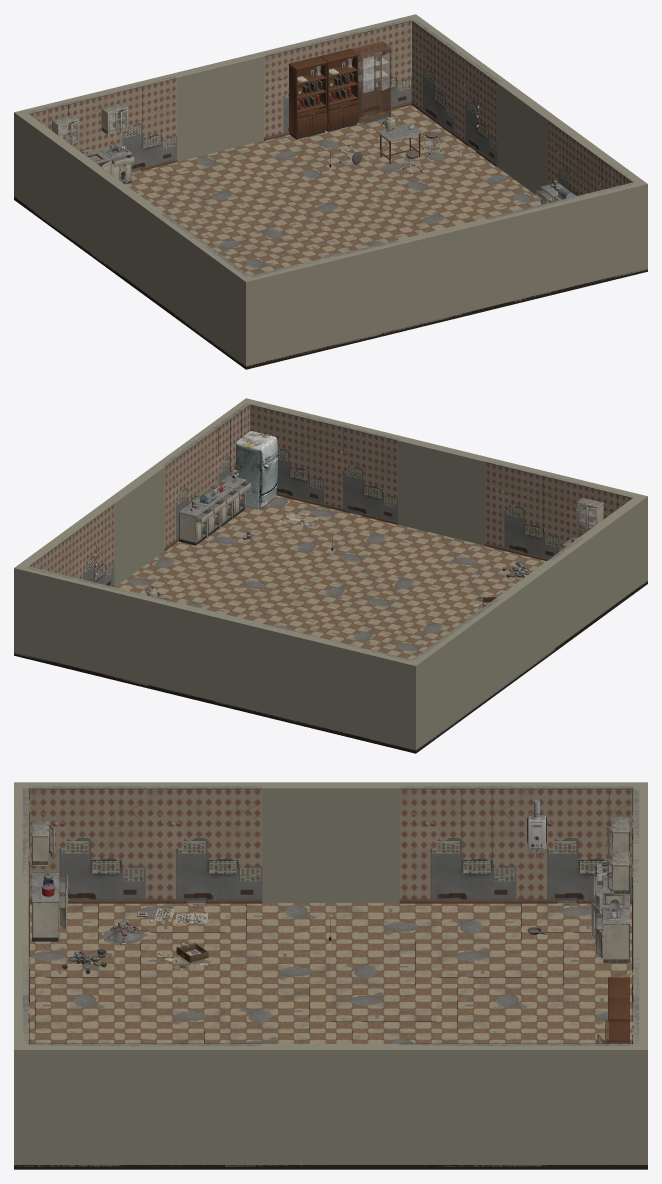
Rendered from room_storage_decorated_v2.glb.
3 views of the same model, one above another, from view 1: azimuth 30°, elevation 25°; view 2: azimuth 150°, elevation 25°; view 3: azimuth 270°, elevation 25° (orthographic). The views are drawn at different scales.
Parts seen in each view (by area): view 1: Wall_S_A, Wall_S_B, Wall_W_B, Wall_W_A, Plug_S, Plug_N, NoCol_Wallpaper_N3, NoCol_Wallpaper_N1, Plug_W, NoCol_Wallpaper_E2, NoCol_Wallpaper_E3, Plug_E (+40 smaller); view 2: Wall_N_A, Wall_N_B, Wall_W_A, Wall_W_B, Plug_N, Plug_S, NoCol_Wallpaper_S2, NoCol_Wallpaper_S1, NoCol_Wallpaper_S3, Plug_W, Plug_E, NoCol_Wallpaper_E1 (+37 smaller); view 3: Wall_E_B, Wall_E_A, Plug_E, Plug_W, NoCol_Wallpaper_W1, NoCol_Wallpaper_W2, NoCol_Wallpaper_W0, NoCol_Wallpaper_W3, NoCol_FloorTile_14, NoCol_FloorTile_13, NoCol_FloorTile_12, NoCol_FloorTile_21 (+45 smaller).
Boxes of the visible parts, x1,y1,x2,y2 form: Wall_S_A: (240,240,403,365); Wall_S_B: (487,180,647,306); Wall_W_B: (19,114,113,262); Wall_W_A: (155,214,249,361); Plug_S: (403,233,490,327); Plug_N: (177,67,263,161); NoCol_Wallpaper_N3: (336,19,411,115); NoCol_Wallpaper_N1: (101,76,176,172); Plug_W: (105,189,155,299); NoCol_Wallpaper_E2: (454,51,500,163); NoCol_Wallpaper_E3: (411,19,457,132); Plug_E: (497,93,547,194); Wall_N_A: (258,624,421,749); Wall_N_B: (14,564,175,690); Wall_W_A: (550,498,642,646); Wall_W_B: (413,597,506,745); Plug_N: (171,617,258,711); Plug_S: (398,451,484,545); NoCol_Wallpaper_S2: (324,421,399,521); NoCol_Wallpaper_S1: (485,460,560,558); NoCol_Wallpaper_S3: (250,403,325,503); Plug_W: (506,573,556,683); Plug_E: (114,477,164,586); NoCol_Wallpaper_E1: (162,435,207,547); Wall_E_B: (399,1044,633,1164); Wall_E_A: (28,1044,262,1164); Plug_E: (262,1064,399,1164); Plug_W: (262,802,399,902); NoCol_Wallpaper_W1: (145,786,262,903); NoCol_Wallpaper_W2: (399,786,516,899); NoCol_Wallpaper_W0: (28,786,145,899); NoCol_Wallpaper_W3: (516,786,633,903); NoCol_FloorTile_14: (436,941,542,986); NoCol_FloorTile_13: (331,941,436,986); NoCol_FloorTile_12: (225,941,330,986); NoCol_FloorTile_21: (119,986,225,1030).
Bounding box in the file's own units: 12 × 2.5 × 12.
43 materials, 31 textured.
